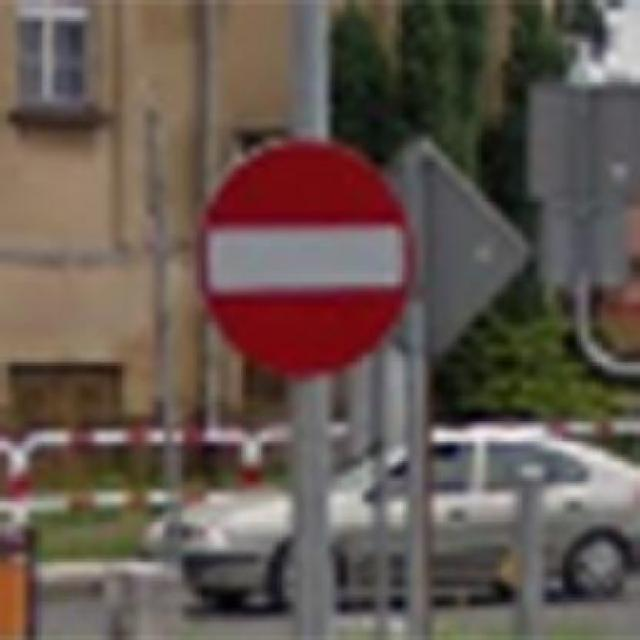Zakaz wjazdu: (195, 136, 418, 379)
